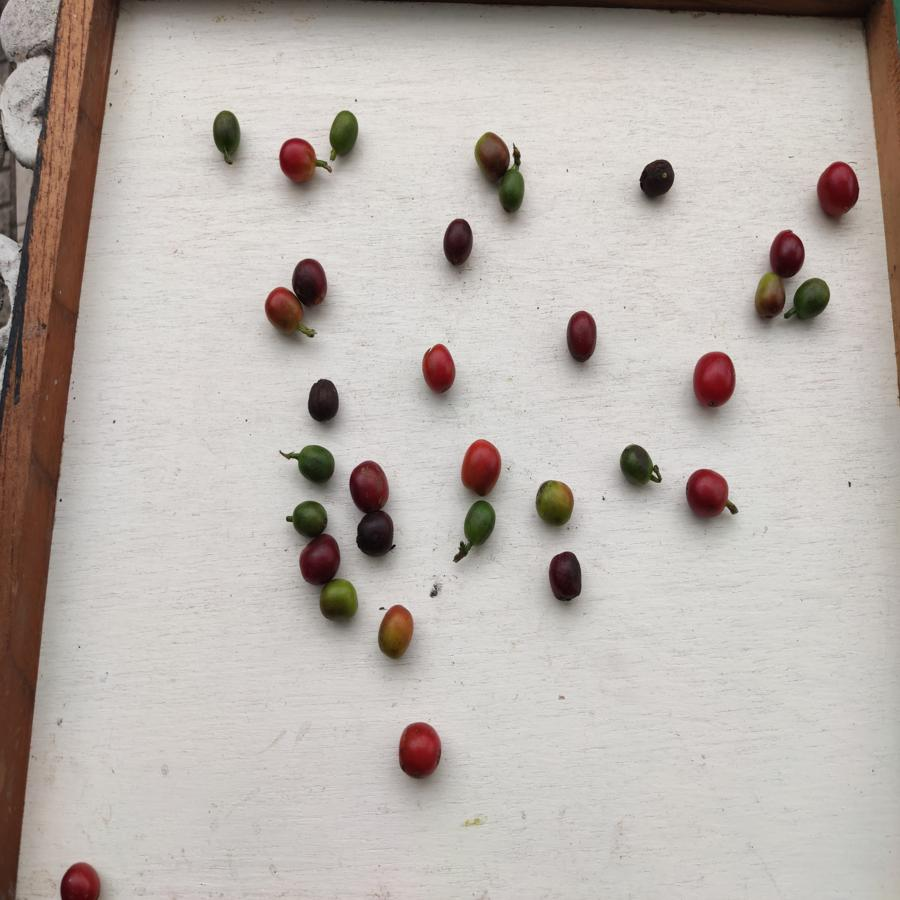Inmaduro: (790, 278, 831, 322), (210, 107, 243, 158), (327, 110, 361, 159), (620, 443, 656, 489), (293, 445, 337, 482), (461, 499, 497, 544), (288, 501, 334, 535), (499, 169, 526, 210)
Maduro: (813, 160, 861, 220), (683, 467, 731, 523), (396, 720, 443, 777), (693, 351, 738, 410), (462, 439, 502, 495), (277, 137, 319, 186), (421, 343, 457, 394)
Pinton: (259, 288, 304, 337), (376, 605, 415, 660), (534, 476, 575, 528), (318, 580, 359, 621), (752, 271, 786, 319), (472, 132, 510, 174)
Sobremaduro: (348, 459, 392, 513), (297, 535, 340, 584), (547, 550, 585, 603), (293, 253, 329, 308), (564, 308, 599, 364), (768, 228, 807, 278), (353, 511, 396, 556), (441, 220, 474, 266), (308, 378, 342, 422), (639, 158, 676, 198)
